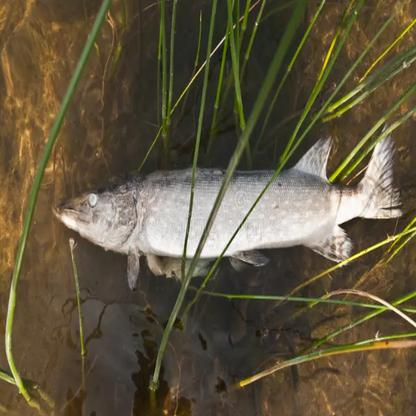deceased fish: (50, 120, 404, 287)
